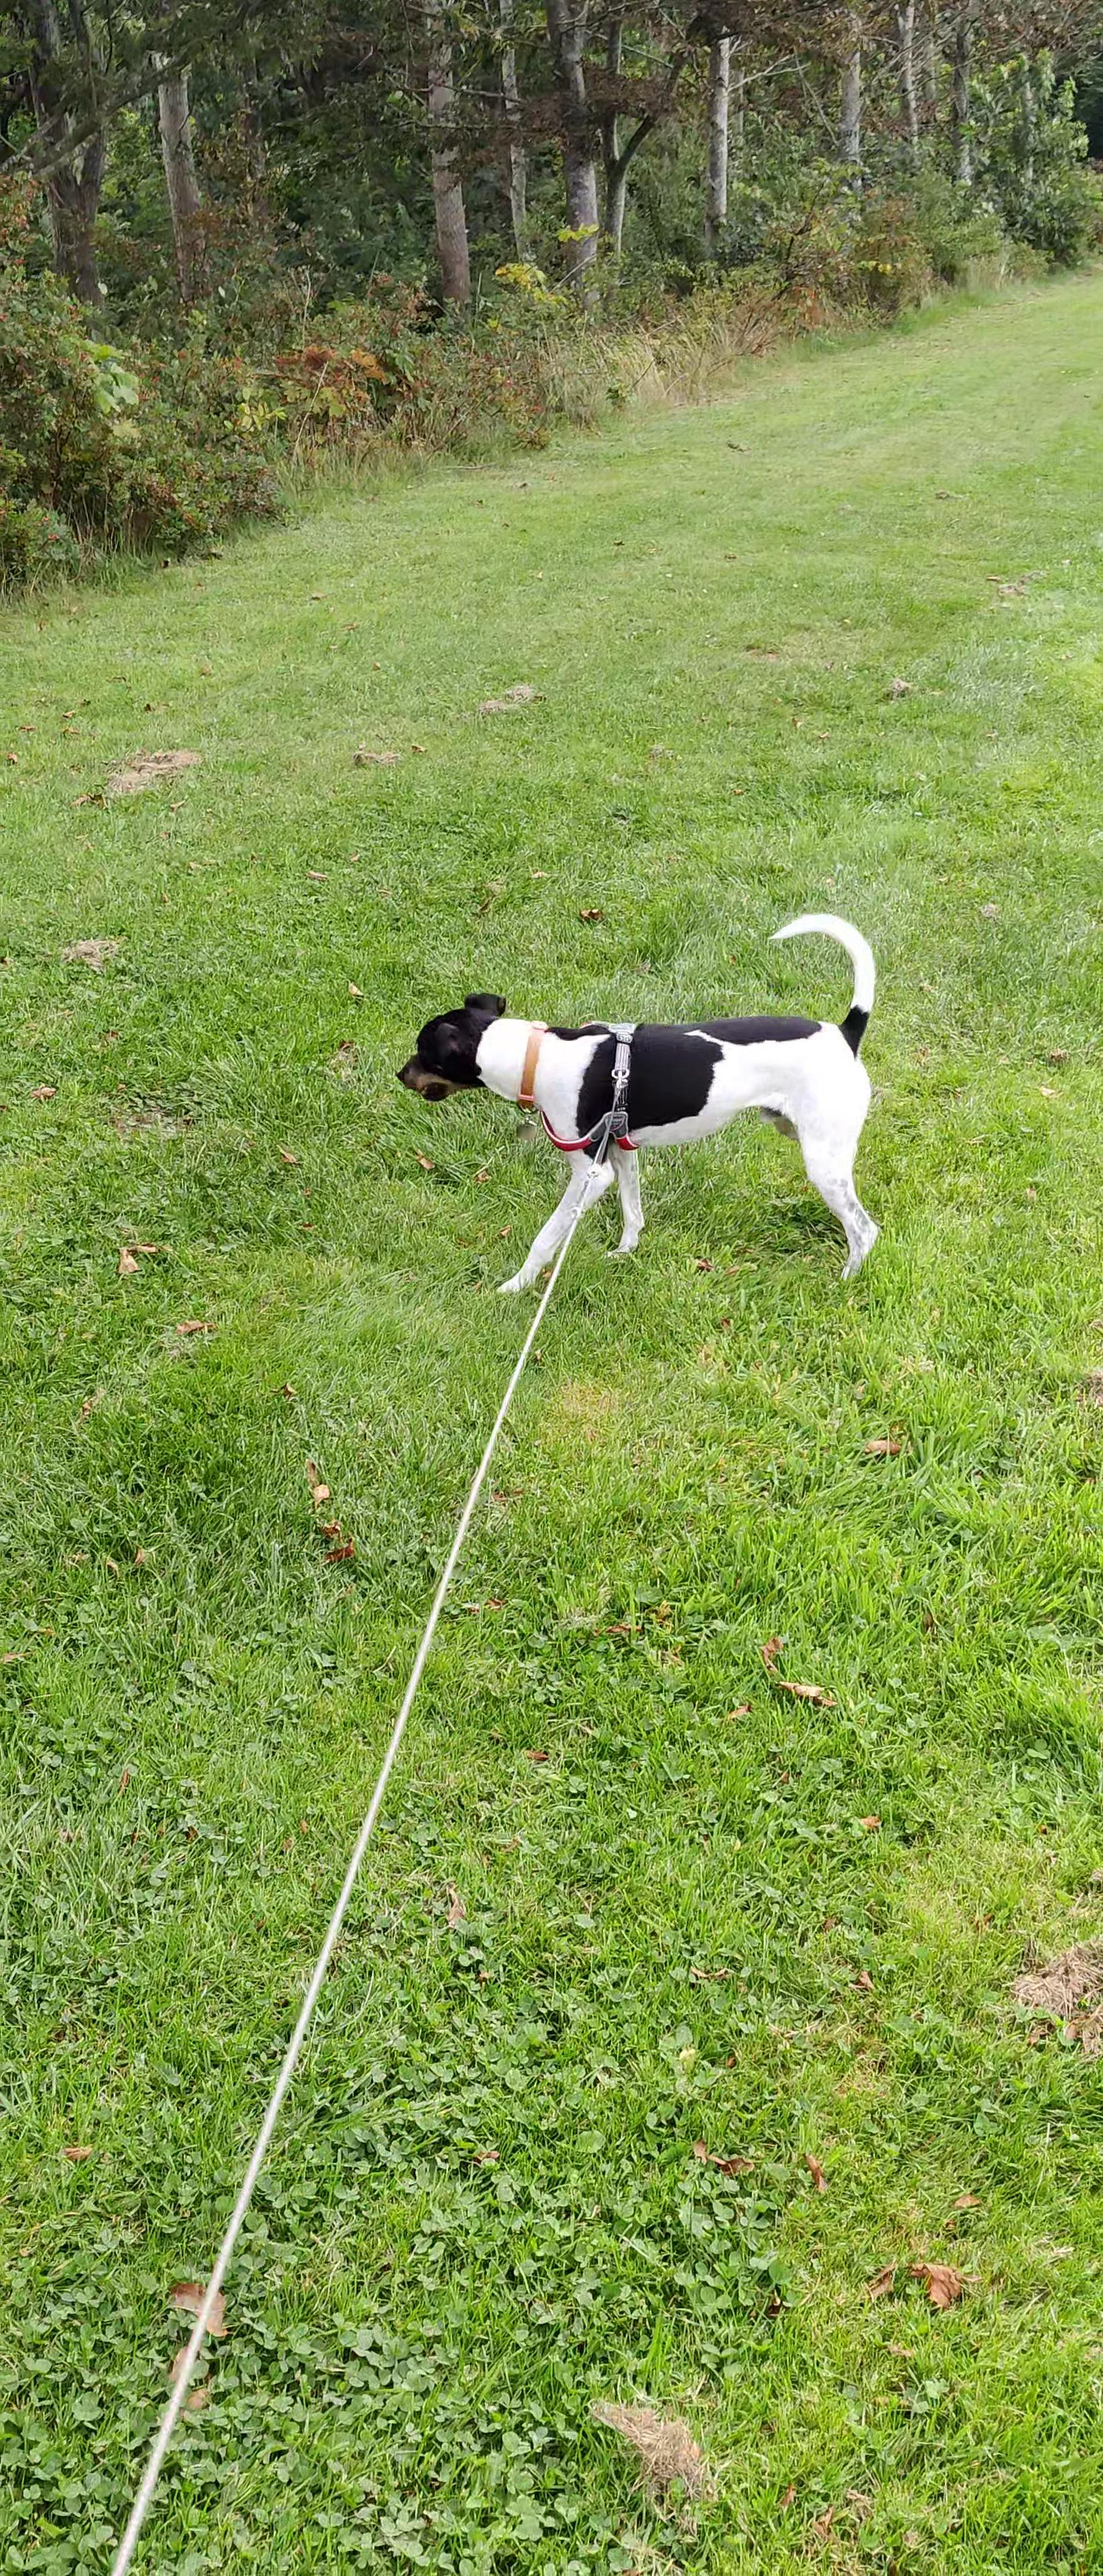Dog: (375, 897, 909, 1304)
